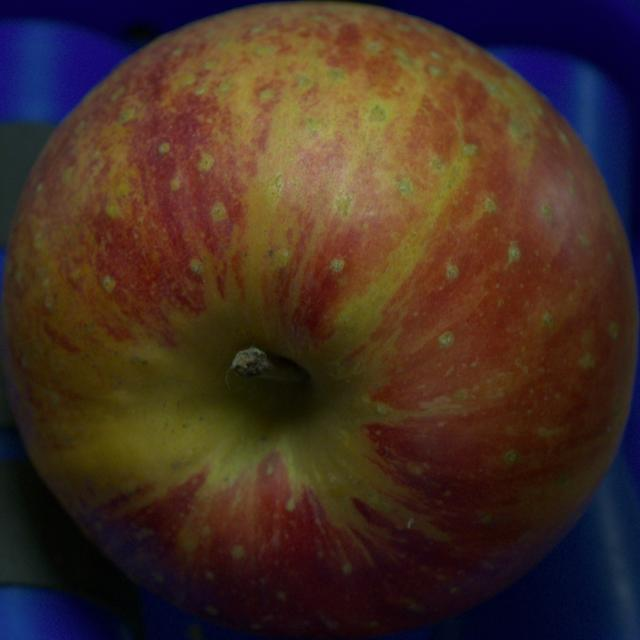apple: (2, 2, 638, 638)
